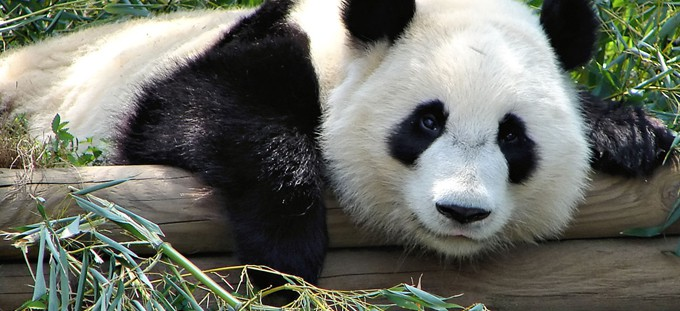panda: (92, 1, 629, 296)
